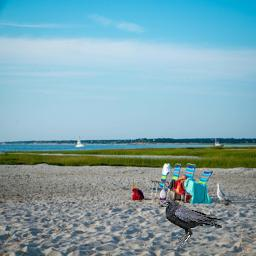Crow: (159, 200, 223, 247)
